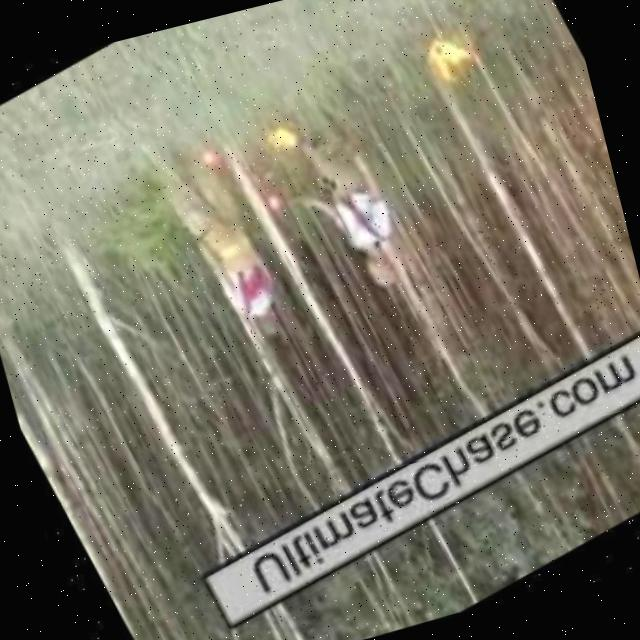fire: (412, 20, 484, 97), (252, 112, 300, 157), (193, 144, 225, 177), (261, 186, 290, 218)
